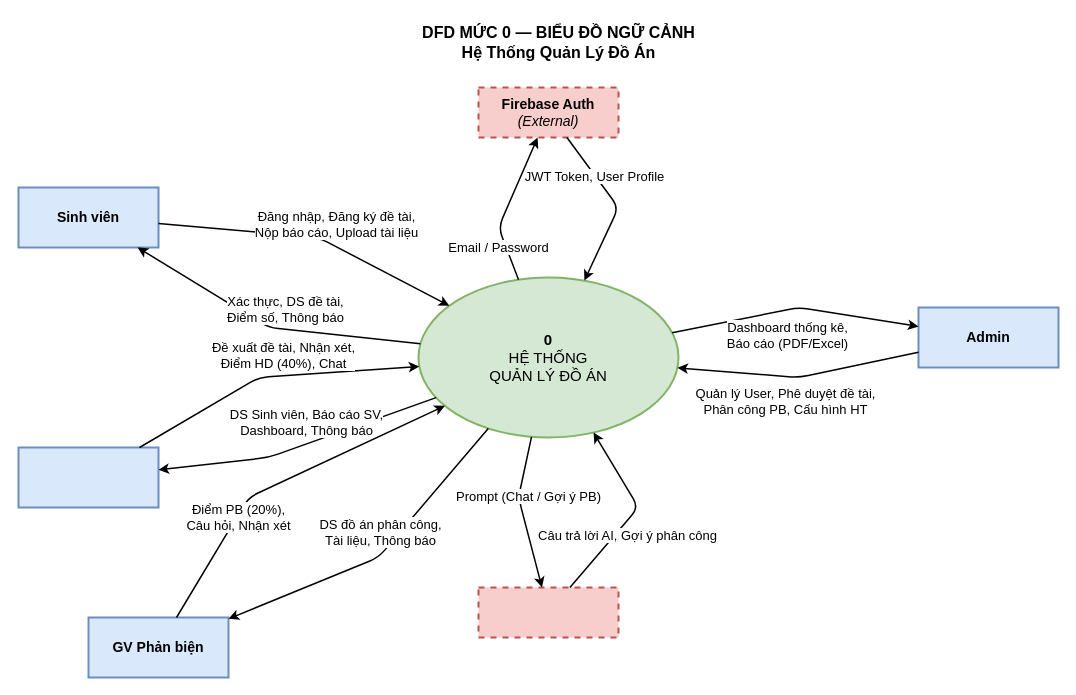
Some shapes in this 1076 by 695 pixel diagram are drawn without their labels. The centre of each missing label's shape, as x and y in pixels:
Gemini AI (External): point 548,612
GV Hướng dẫn: point 88,477
